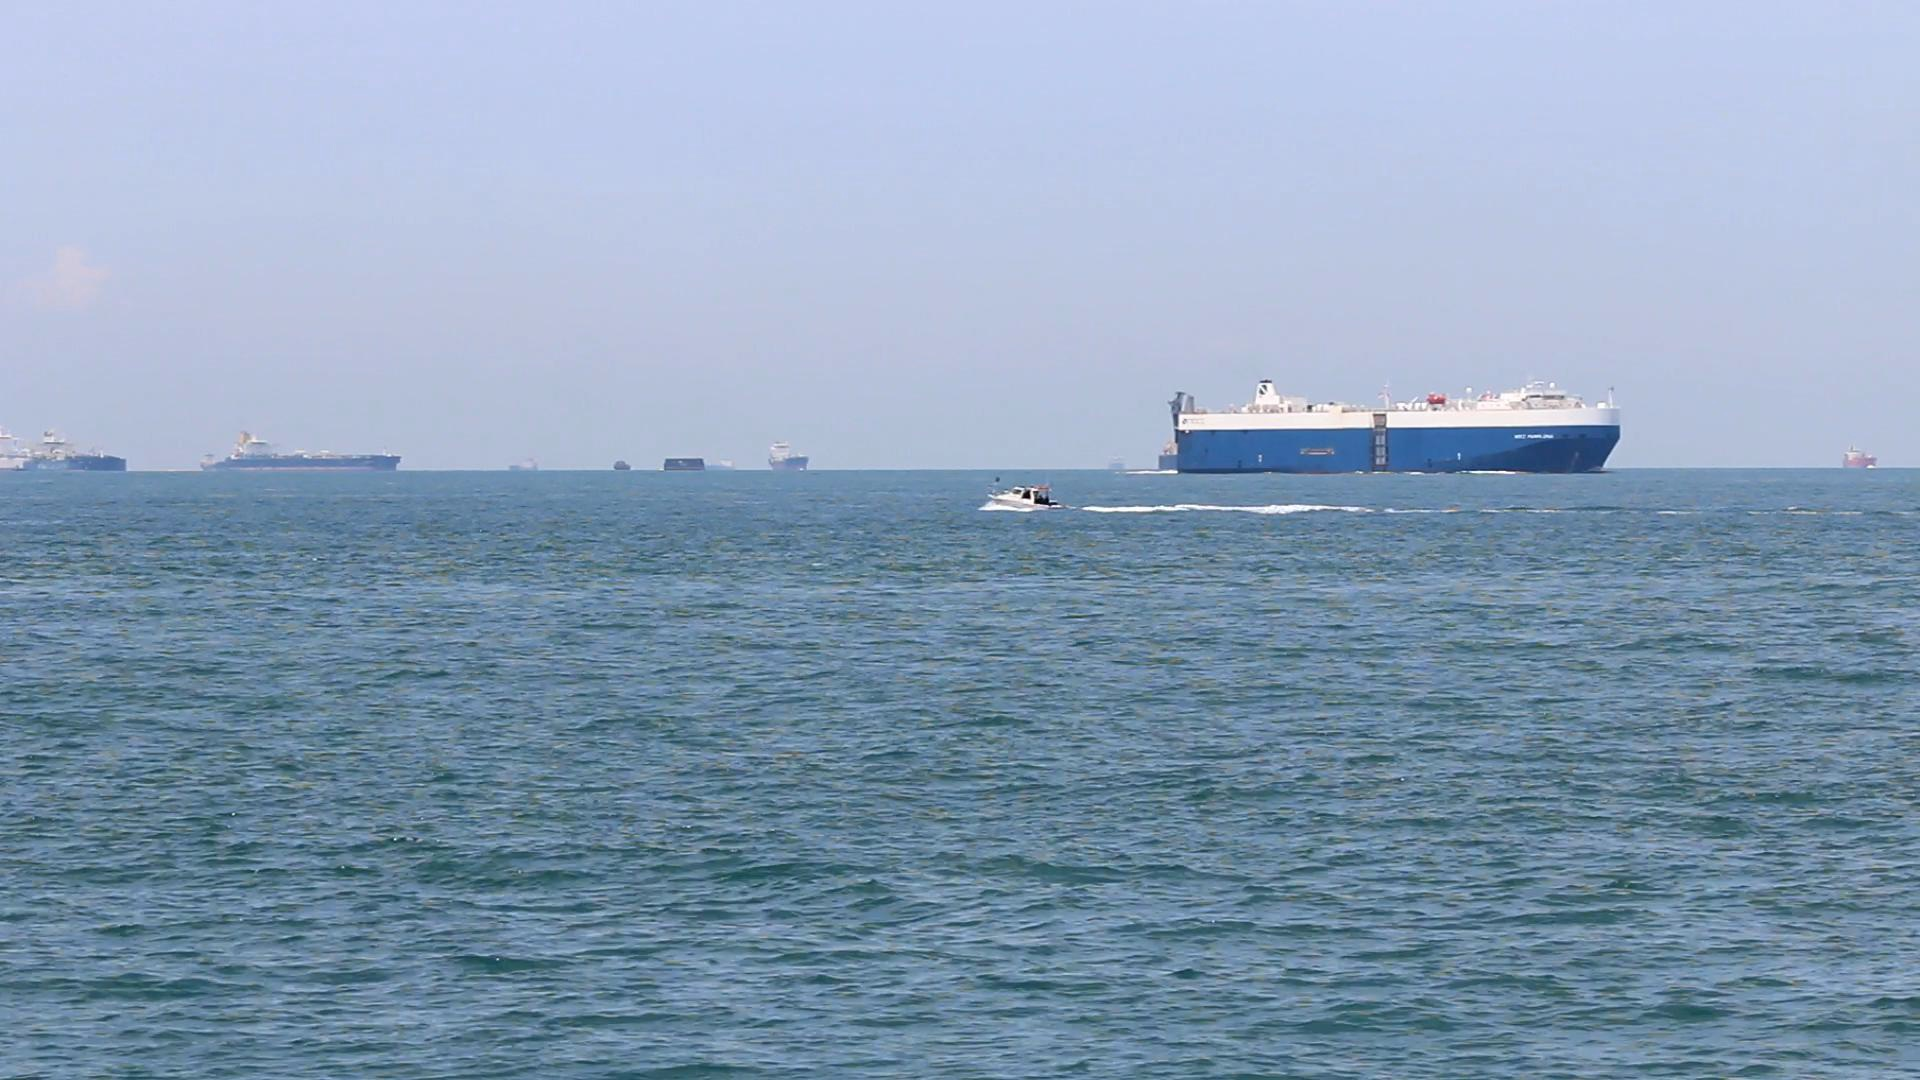Container Ship: (1162, 371, 1631, 481), (183, 422, 407, 476), (0, 430, 140, 477), (757, 435, 818, 480), (1830, 436, 1880, 480), (1153, 438, 1174, 476)
